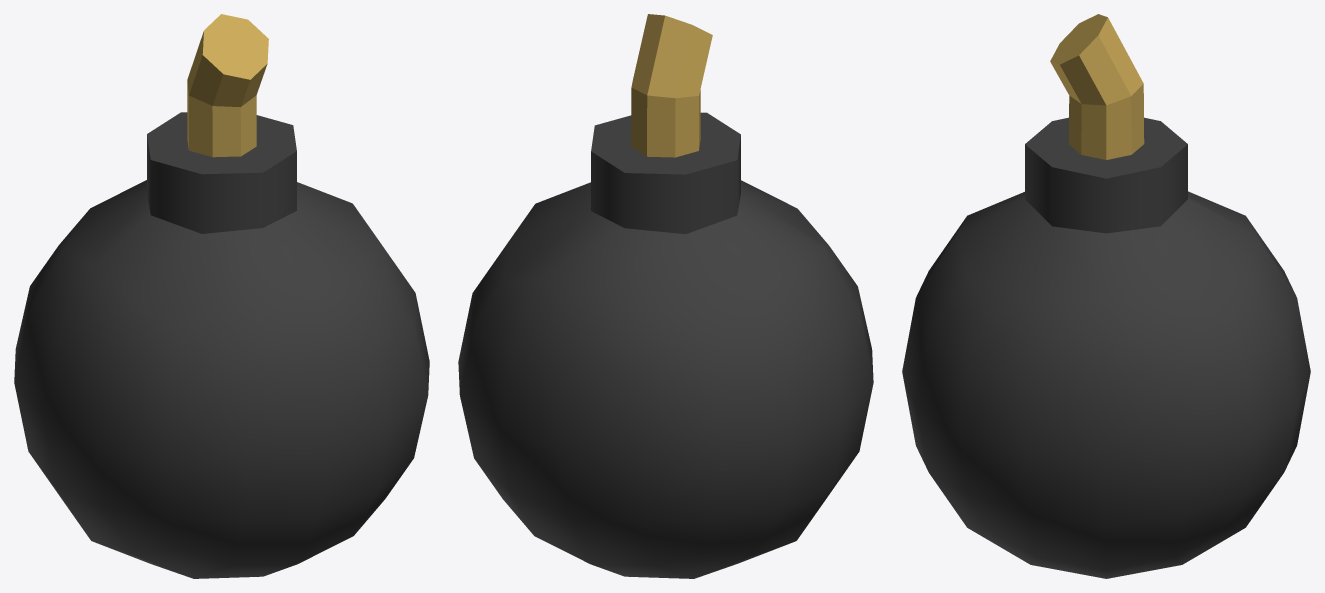
The model's file is Bomb.fbx.
3 views of the same model, side by side, from view 1: azimuth 30°, elevation 25°; view 2: azimuth 150°, elevation 25°; view 3: azimuth 270°, elevation 25° (orthographic).
Parts seen in each view (by area): view 1: Box003; view 2: Box003; view 3: Box003.
Part boxes in pixels (bbox=[...]): Box003: bbox=[14, 14, 429, 578]; Box003: bbox=[458, 14, 873, 578]; Box003: bbox=[902, 14, 1310, 578].
Bounding box in the file's own units: 34.59 × 50.38 × 34.59.
